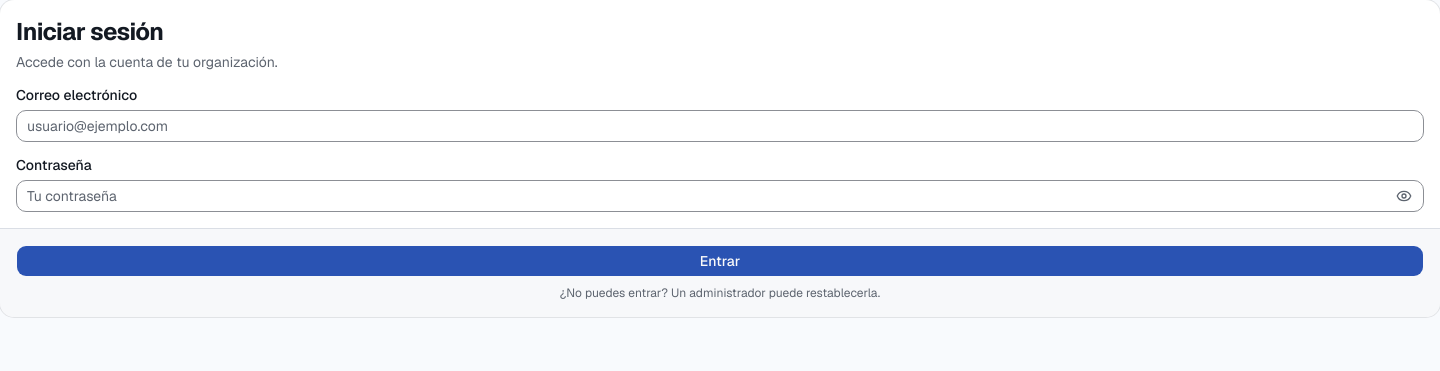
Test: FormularioLogin › muestra el error del backend
This screenshot has width=1440, height=371.
Type "admin@example.com" into the field labelled "Correo electrónico".
click(720, 126); type("admin@example.com")  # box [16,110,1424,142]
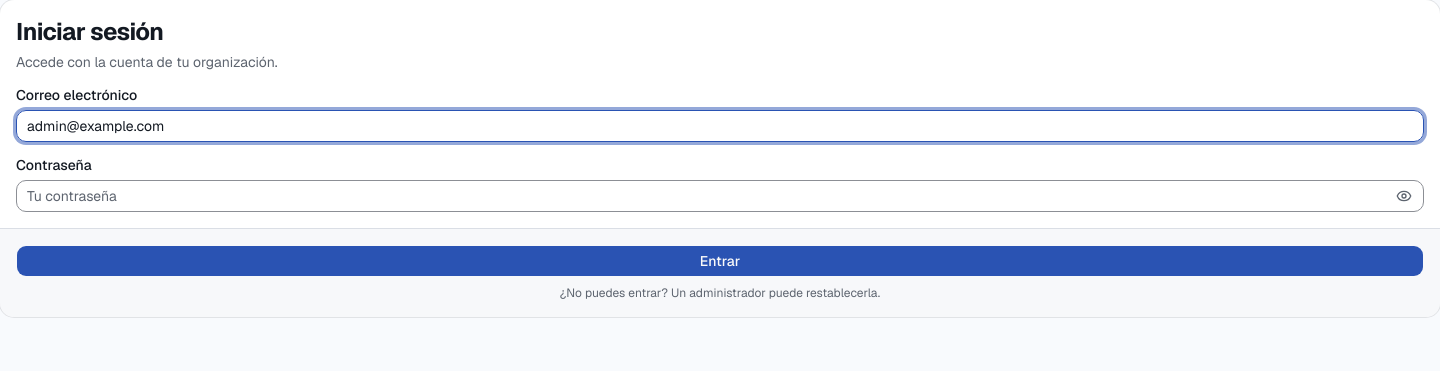
Type "incorrecta" into the password field labelled "Contraseña".
click(720, 196); type("incorrecta")  # box [16,180,1424,212]
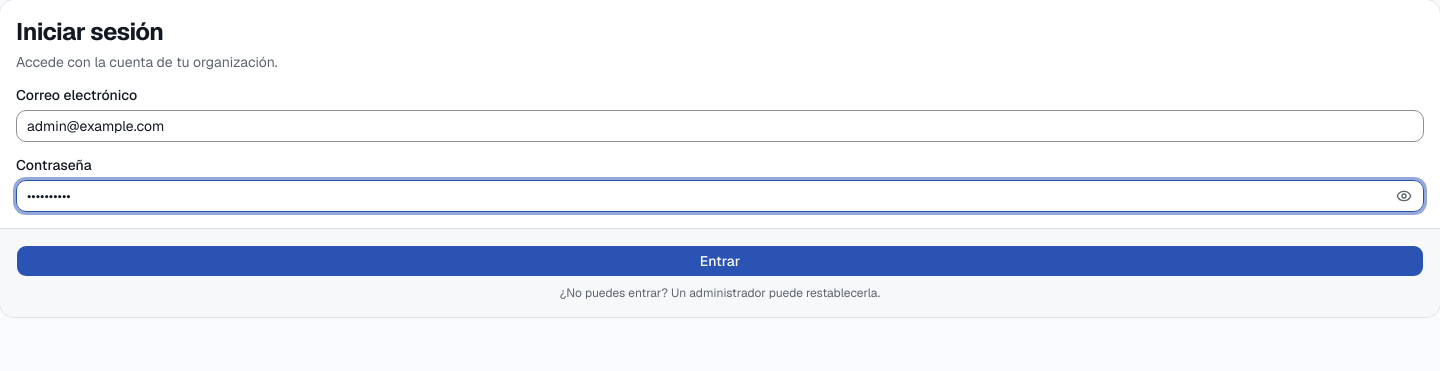
Click the button "Entrar".
click(720, 261)  # box [16,245,1424,277]
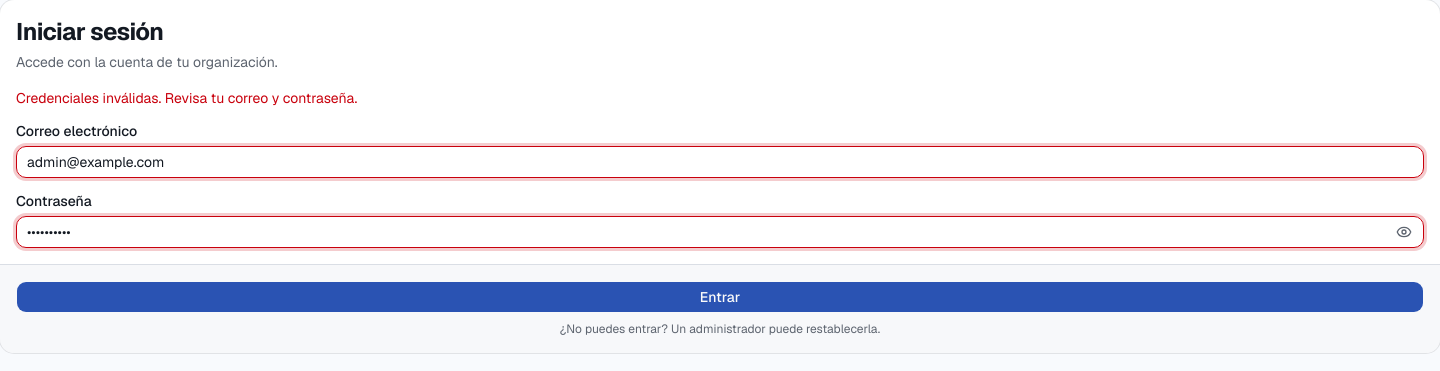
Check: the message shows "Credenciales inválidas", box [16,89,357,107]
